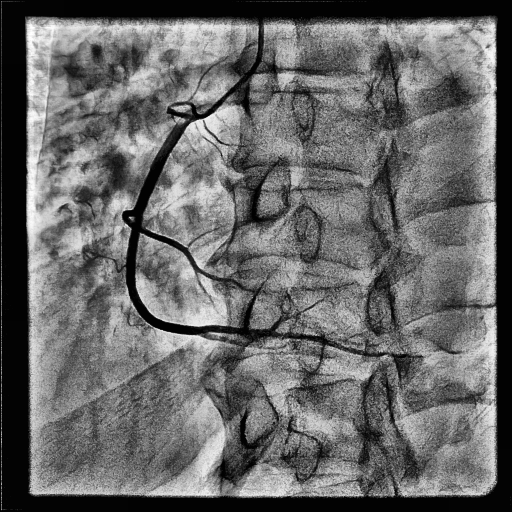pborca: (204, 326, 423, 359)
pda: (201, 334, 284, 349)
rca: (127, 105, 213, 335)
